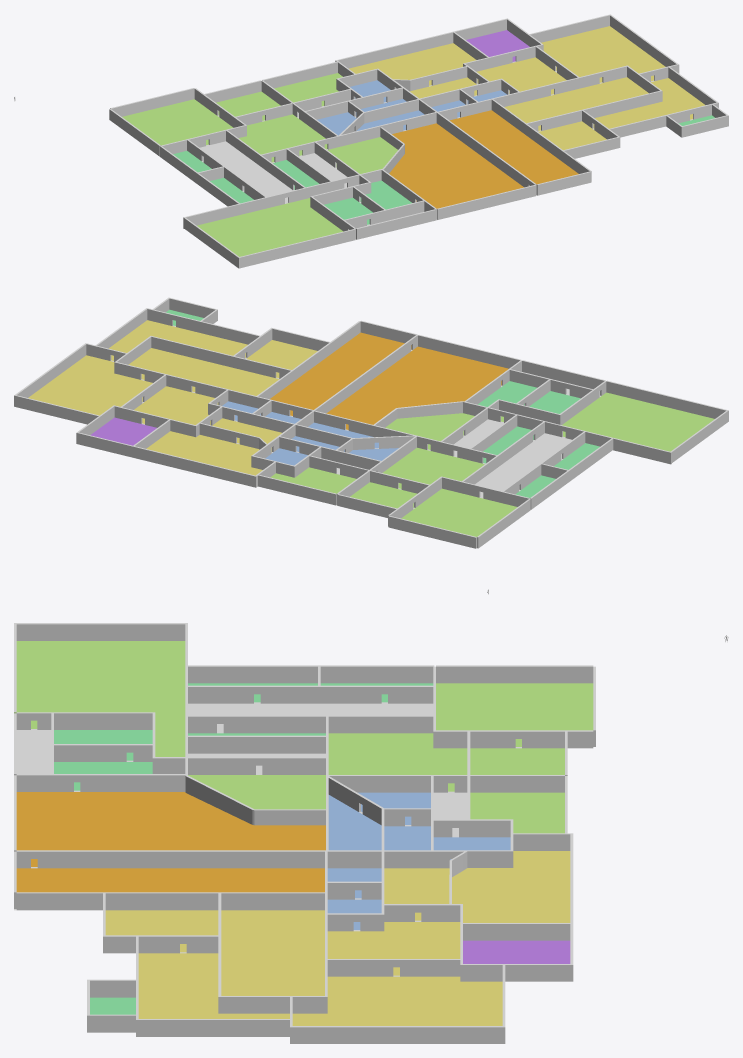
3 views of the same model, one above another, from view 1: azimuth 30°, elevation 25°; view 2: azimuth 150°, elevation 25°; view 3: azimuth 270°, elevation 25° (orthographic). The views are drawn at different scales.
Visible parts, largest first — view 1: Plane.001; view 2: Plane.001; view 3: Plane.001.
Boxes of the visible parts, x1,y1,x2,y2 form: Plane.001: (109, 14, 728, 268); Plane.001: (14, 297, 728, 548); Plane.001: (14, 623, 595, 1043).
Size of the model in its own units: 230 by 4.67 by 172.
